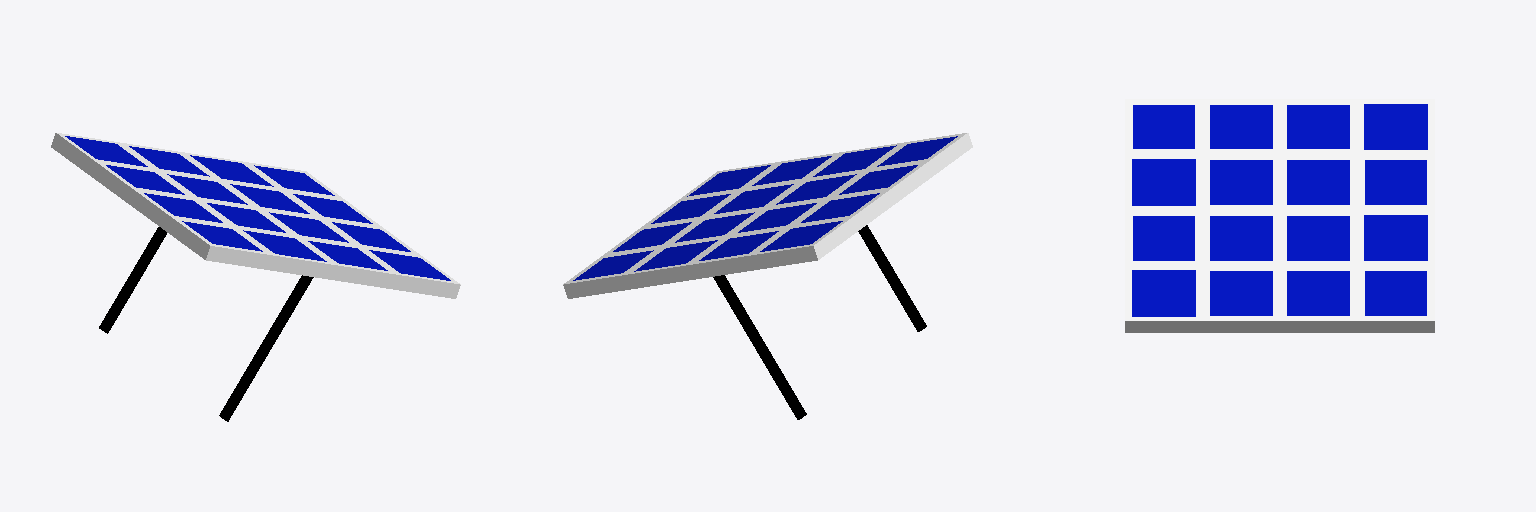
Rendered from Solarpanel.obj.
The picture shows the model from 3 angles: view 1: azimuth 30°, elevation 25°; view 2: azimuth 150°, elevation 25°; view 3: azimuth 270°, elevation 25°; orthographic projection.
Parts seen in each view (by area): view 1: Cube.003; view 2: Cube.003; view 3: Cube.003.
Boxes of the visible parts, x1,y1,x2,y2 form: Cube.003: [51, 133, 460, 421]; Cube.003: [563, 133, 972, 419]; Cube.003: [1125, 99, 1434, 332].
Bounding box in the file's own units: 4.65 × 3.37 × 4.88.